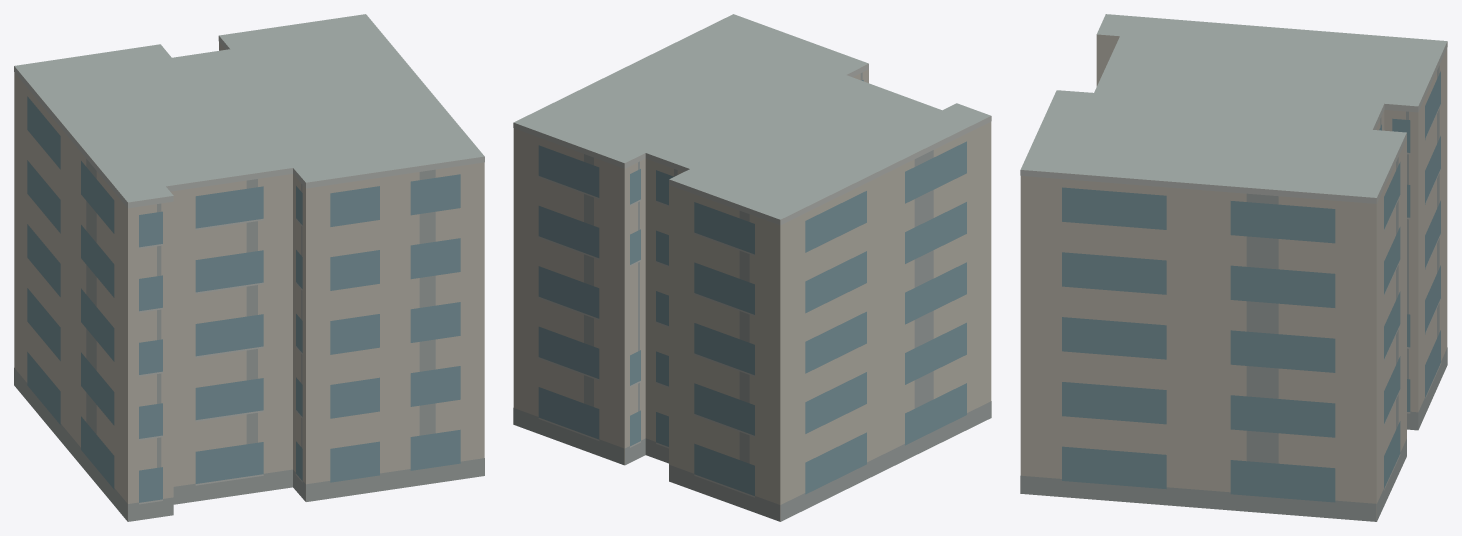
Rendered from survey-upis-32992131.glb.
The picture shows the model from 3 angles, left to right: view 1: azimuth 30°, elevation 25°; view 2: azimuth 150°, elevation 25°; view 3: azimuth 270°, elevation 25°; orthographic projection. The views are drawn at different scales.
Visible parts, largest first — view 1: survey-upis-32992131.tmp; view 2: survey-upis-32992131.tmp; view 3: survey-upis-32992131.tmp.
Part boxes in pixels (x1,y1,x2,y2): survey-upis-32992131.tmp: [14, 14, 484, 521]; survey-upis-32992131.tmp: [513, 14, 991, 521]; survey-upis-32992131.tmp: [1020, 14, 1447, 521].
Bounding box in the file's own units: 16.07 × 13.19 × 15.77.
